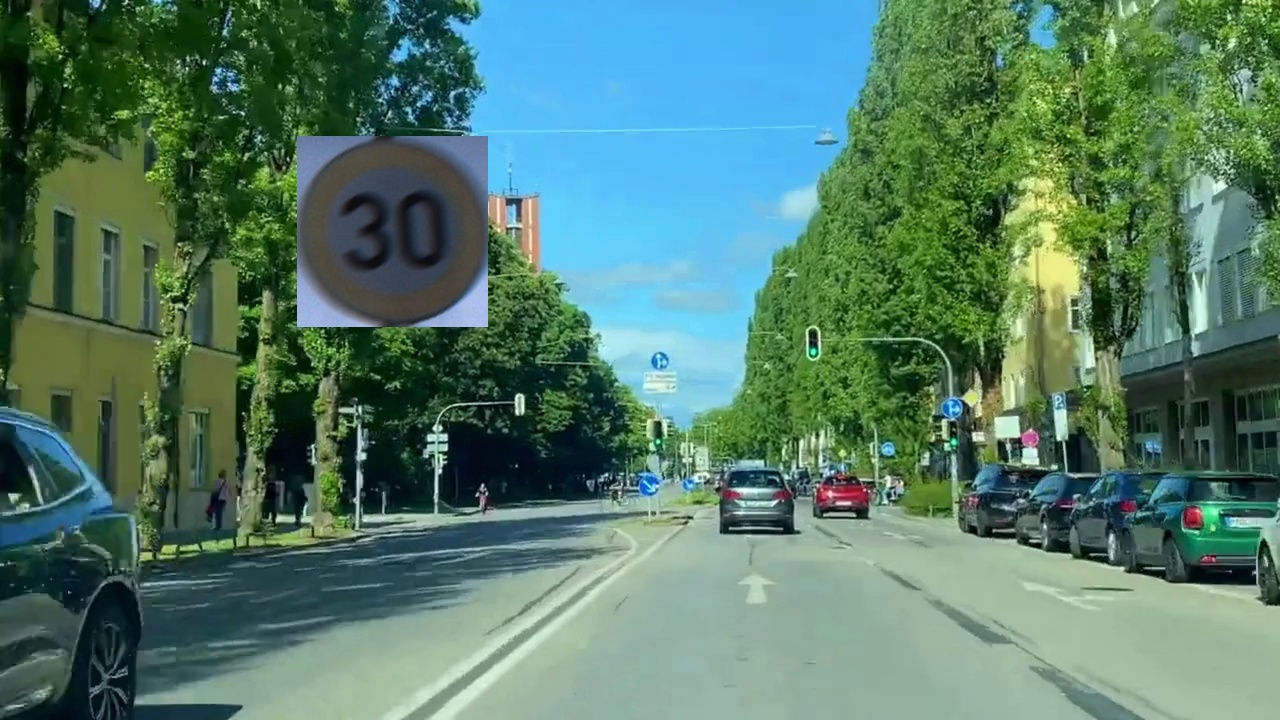Speed 30: (297, 136, 488, 327)
